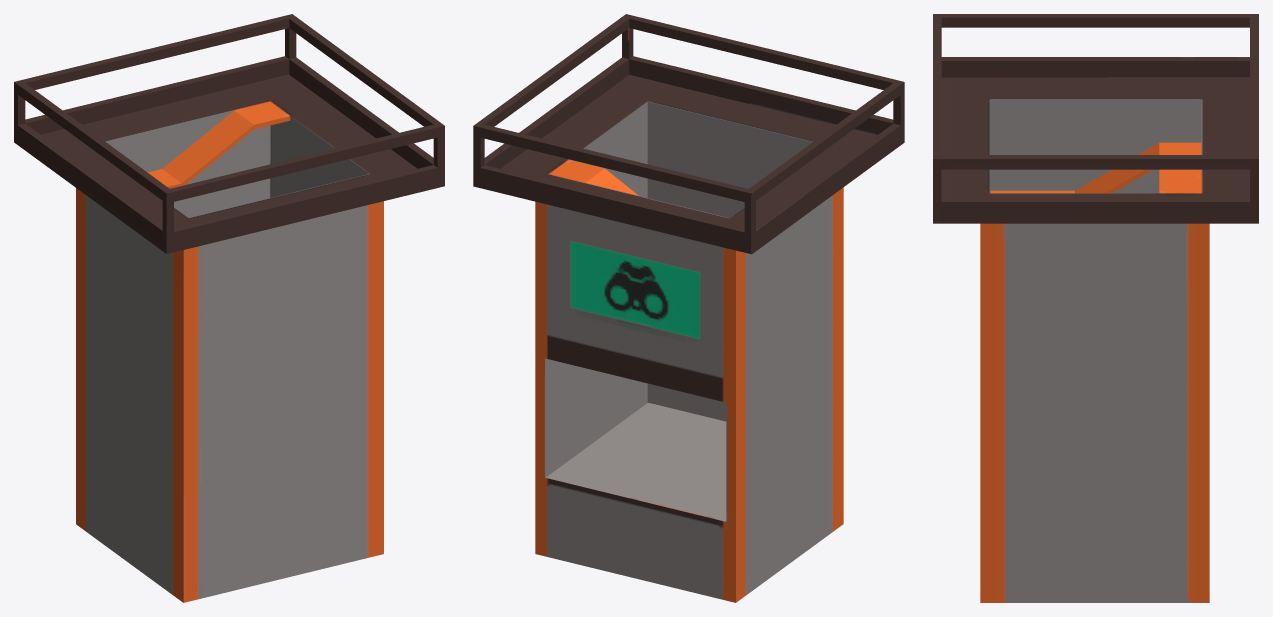
File: Watchtower.fbx
3 renders of one model, left to right at view 1: azimuth 30°, elevation 25°; view 2: azimuth 150°, elevation 25°; view 3: azimuth 270°, elevation 25°, orthographic. The views are drawn at different scales.
Parts seen in each view (by area): view 1: Cube.037; view 2: Cube.037; view 3: Cube.037.
Part boxes in pixels (x1,y1,x2,y2): Cube.037: (14,14,444,602); Cube.037: (473,14,904,602); Cube.037: (933,14,1258,602).
Size of the model in its own units: 1405 by 2101 by 1335.
